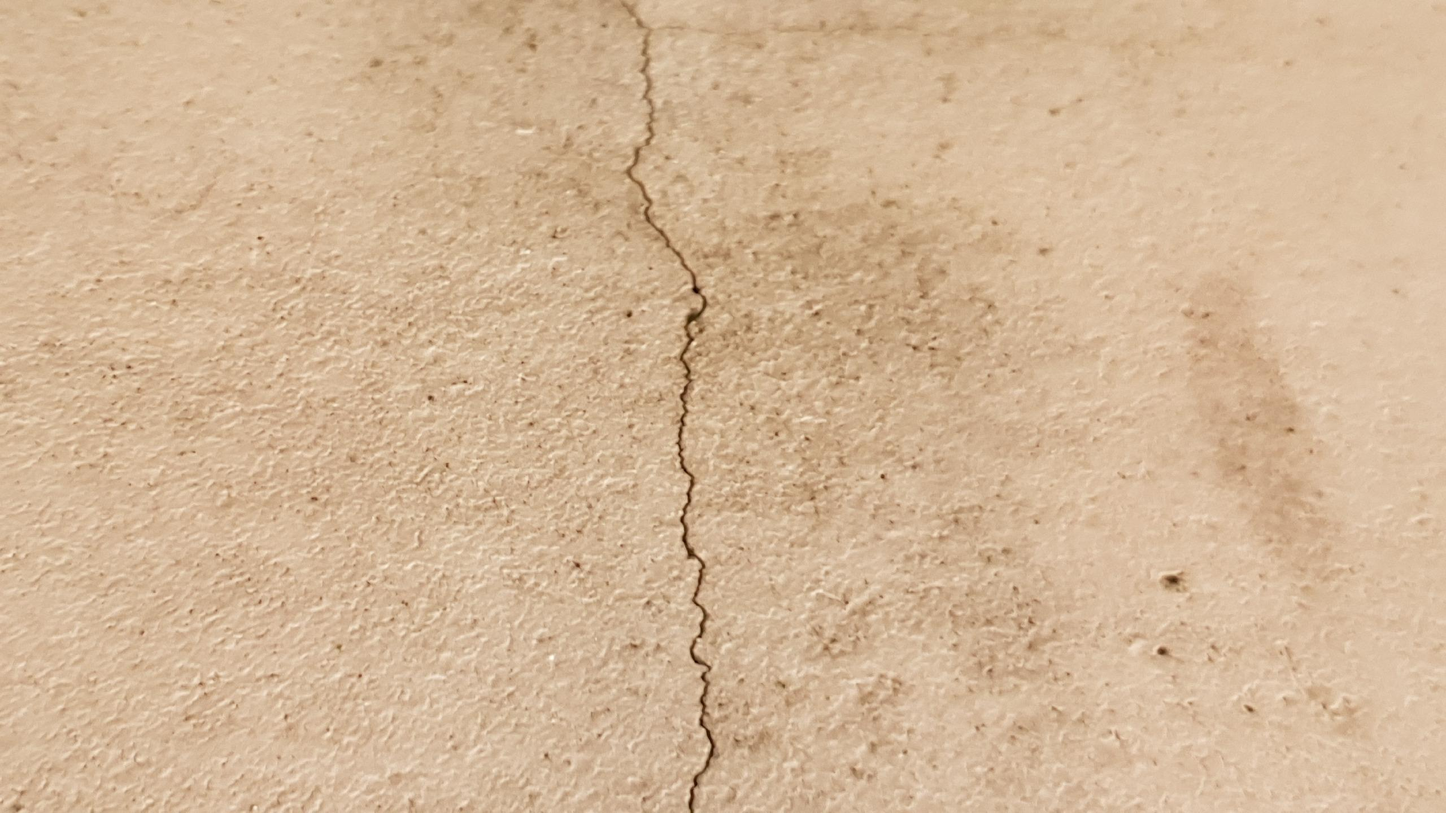crack: (622, 2, 714, 812)
